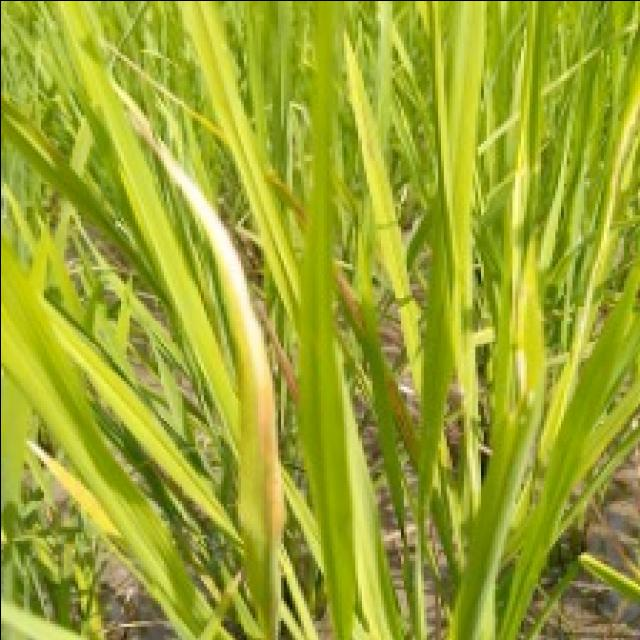Unhealthy: (110, 78, 286, 541), (255, 297, 298, 400), (266, 171, 308, 229), (387, 371, 412, 457), (333, 263, 362, 331)
